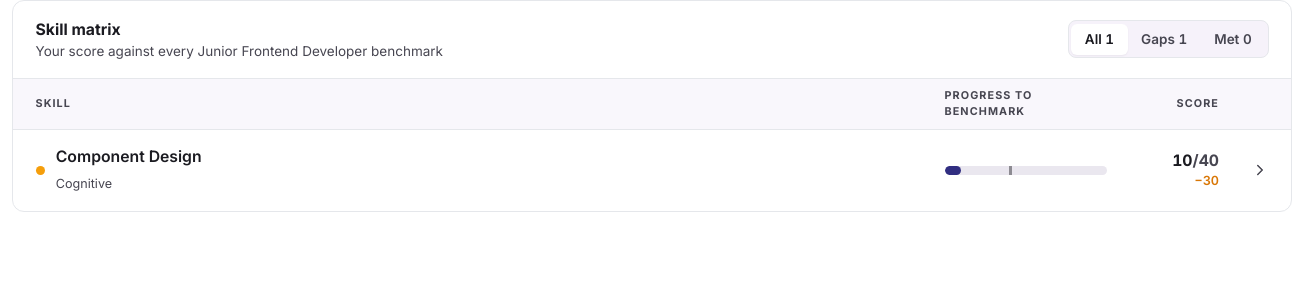
Test case: SkillMatrix › says so plainly when no task on the platform awards a skill
Step 1. Click the button "Component Design Cognitive 10/40 −30" → (129, 156), box x1=13 y1=130 x2=1291 y2=211
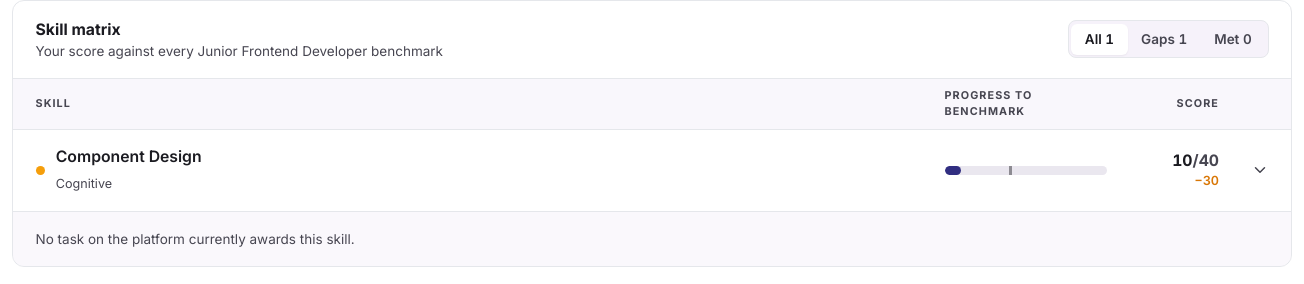
Check: the text "No task on the platform currently awards this skill." is shown, box x1=36 y1=231 x2=355 y2=247
